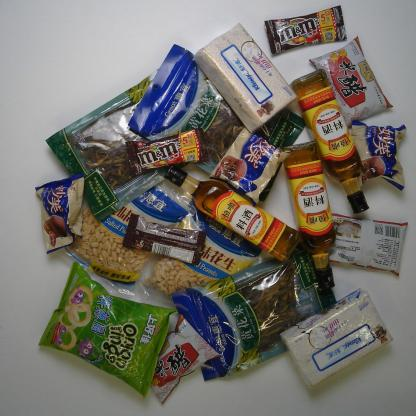Chocolate: (123, 211, 208, 271), (266, 4, 348, 54), (124, 128, 208, 174)
Dessert: (208, 125, 281, 201), (346, 120, 405, 192), (33, 173, 85, 254)
Dried Food: (133, 44, 301, 197), (53, 67, 206, 221), (169, 256, 332, 376)
Dried Fruit: (69, 163, 184, 281), (151, 200, 259, 309)
Puffed Food: (32, 261, 164, 388)
Seasoner: (157, 160, 300, 264), (291, 70, 370, 218), (281, 140, 344, 290), (138, 317, 223, 406), (311, 37, 396, 123), (326, 211, 406, 279)
Tissue: (194, 14, 296, 130), (274, 292, 396, 388)
